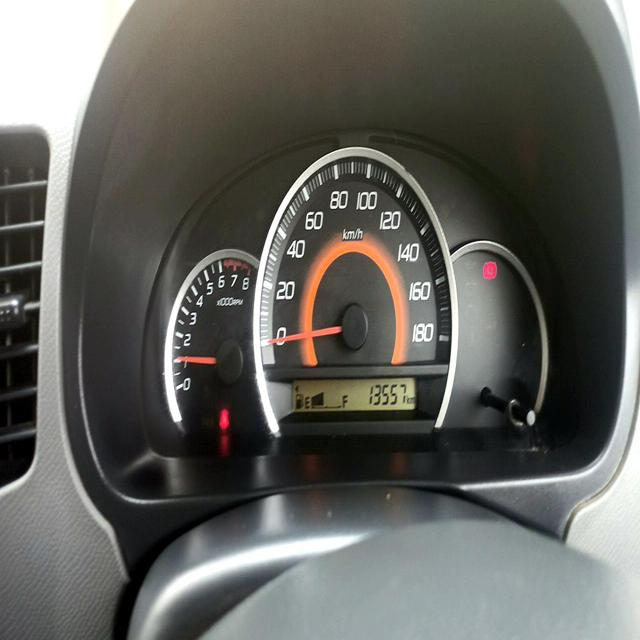odometer: (367, 381, 406, 407)
